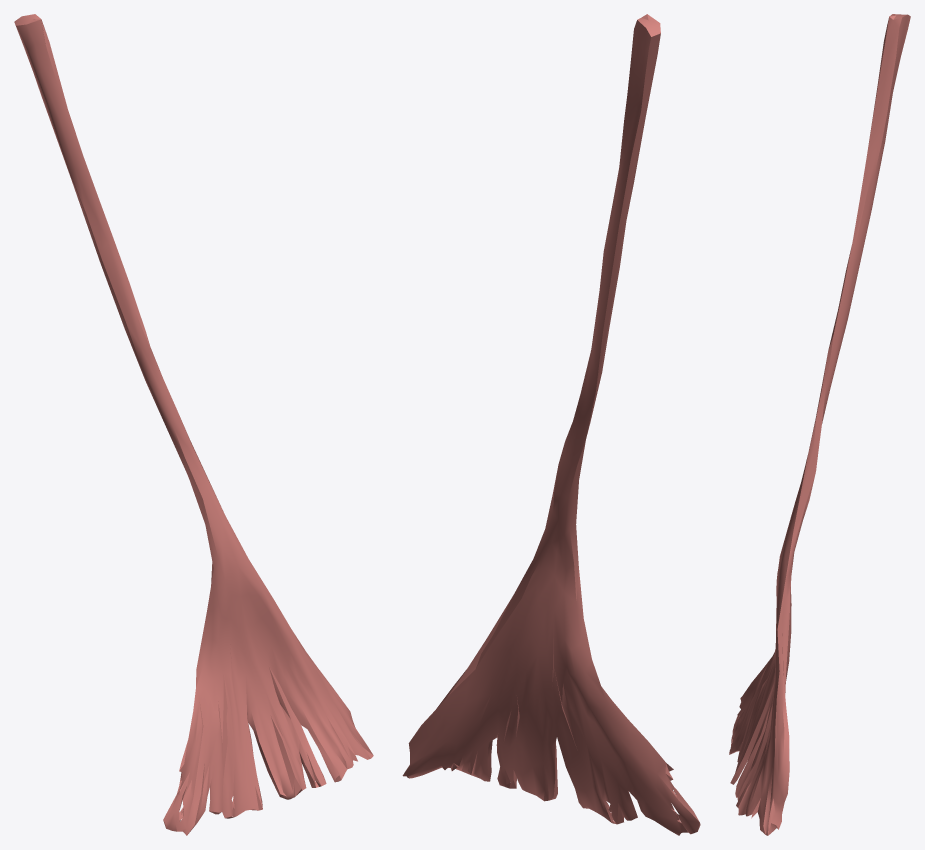
Rendered from fma63256_mm1970m.glb.
The picture shows the model from 3 angles, left to right: view 1: azimuth 30°, elevation 25°; view 2: azimuth 150°, elevation 25°; view 3: azimuth 270°, elevation 25°; orthographic projection. The views are drawn at different scales.
Visible parts, largest first — view 1: FMA63256_MM1970M; view 2: FMA63256_MM1970M; view 3: FMA63256_MM1970M.
Part boxes in pixels (x1,y1,x2,y2): FMA63256_MM1970M: (14, 14, 373, 835); FMA63256_MM1970M: (402, 14, 700, 835); FMA63256_MM1970M: (729, 14, 910, 835).
Bounding box in the file's own units: 0.0774 × 0.1989 × 0.0461.
